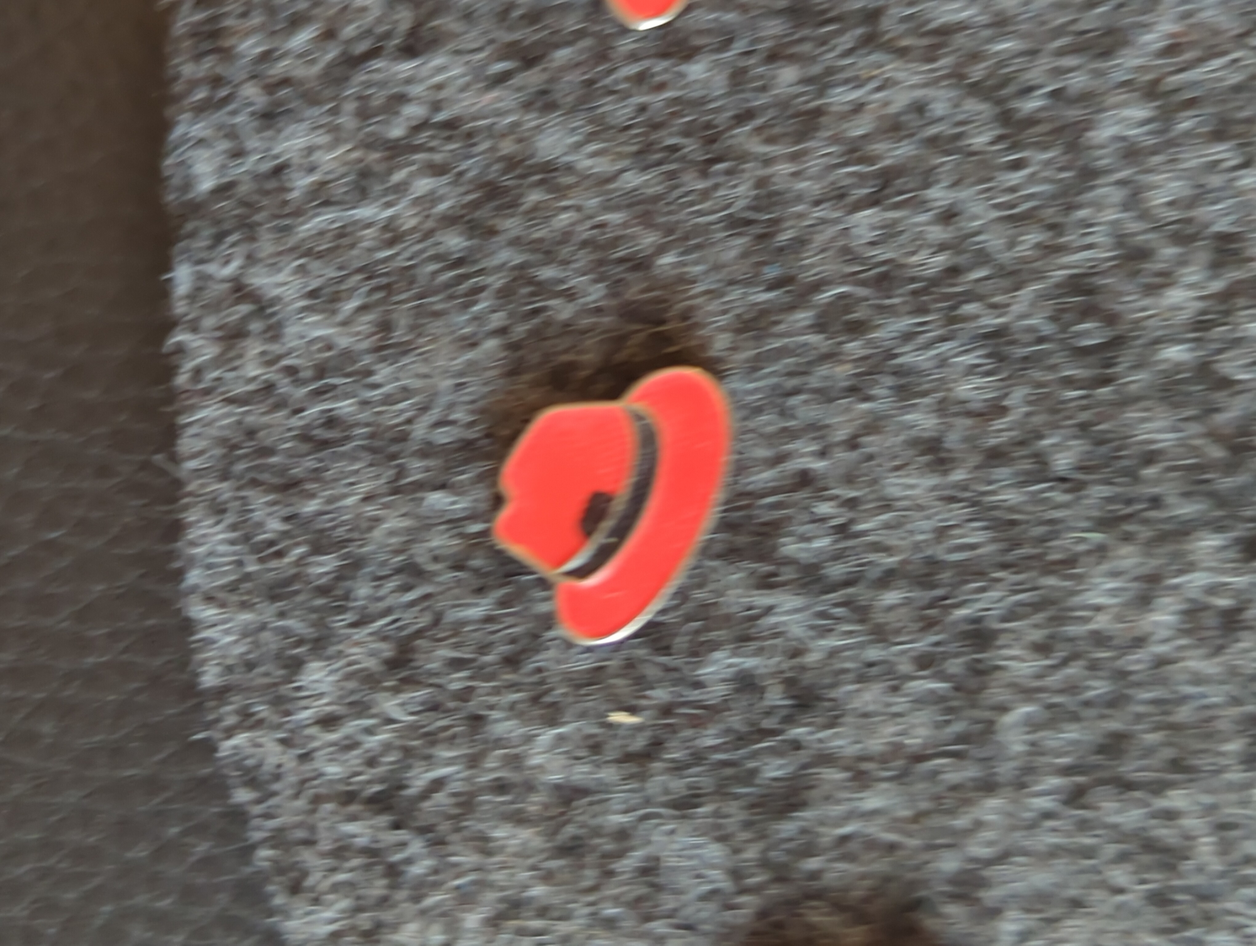Red-Hat: (424, 291, 822, 710)
Scratch: (558, 459, 631, 557)
